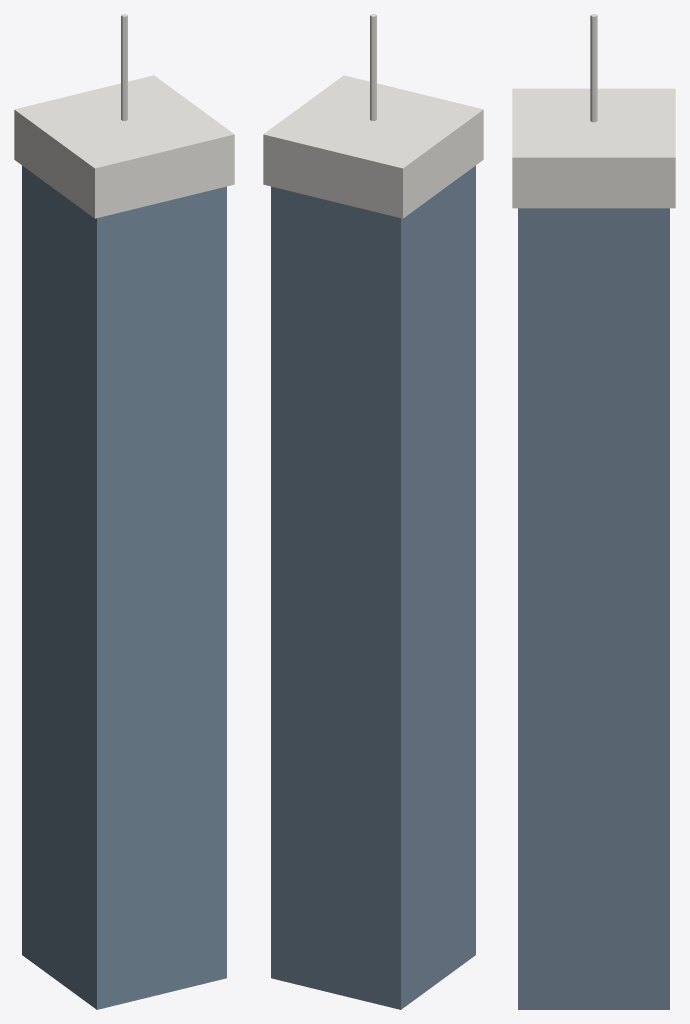
The model's file is torre_de_cali.fbx.
3 views of the same model, side by side, from view 1: azimuth 30°, elevation 25°; view 2: azimuth 150°, elevation 25°; view 3: azimuth 270°, elevation 25° (orthographic).
Parts seen in each view (by area): view 1: glass, white, white_02; view 2: glass, white, white_02; view 3: glass, white, white_02.
Boxes of the visible parts, x1,y1,x2,y2 form: glass: (22,165,226,1009); white: (14,75,234,218); white_02: (121,14,127,120); glass: (271,165,475,1009); white: (263,75,483,218); white_02: (370,14,376,120); glass: (518,208,669,1009); white: (512,88,675,208); white_02: (590,14,597,122).
Size of the model in its own units: 7 by 45.5 by 7.
